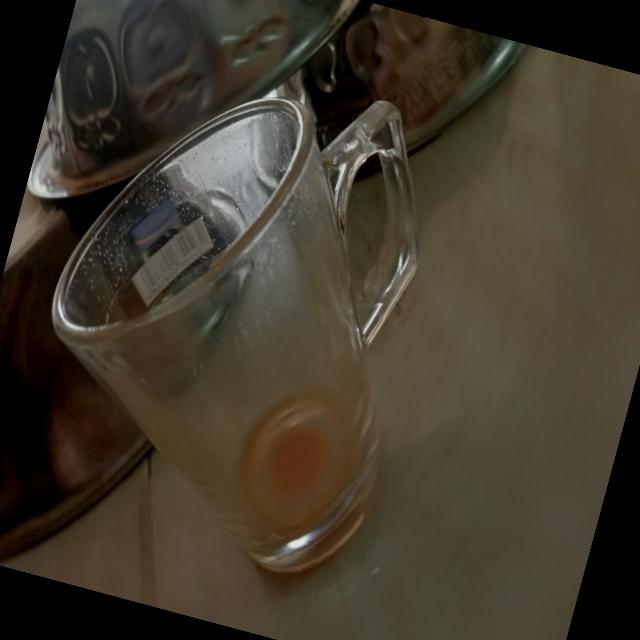glass-VX4N: (0, 32, 463, 593)
